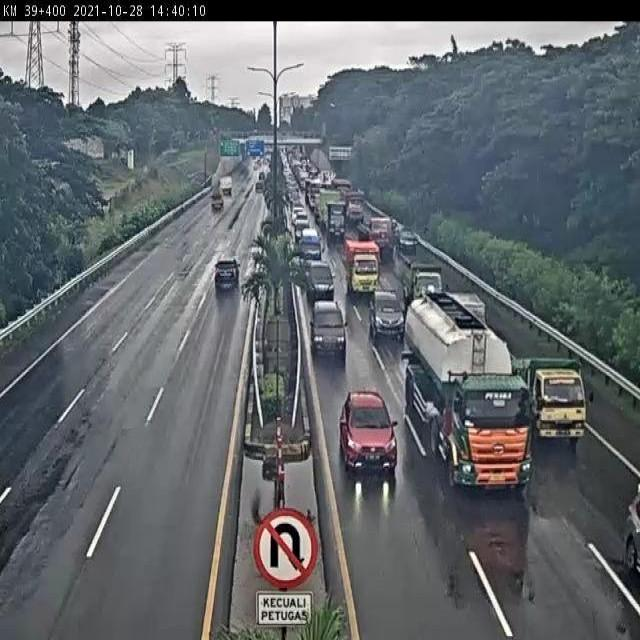bus-s-: (300, 230, 323, 266)
car: (339, 392, 398, 471), (309, 297, 347, 356), (368, 288, 407, 340), (305, 263, 337, 301), (213, 257, 241, 287)
truck-m-: (511, 356, 585, 440), (394, 248, 443, 296), (343, 238, 380, 294)
truck-xl-: (402, 291, 534, 493)
